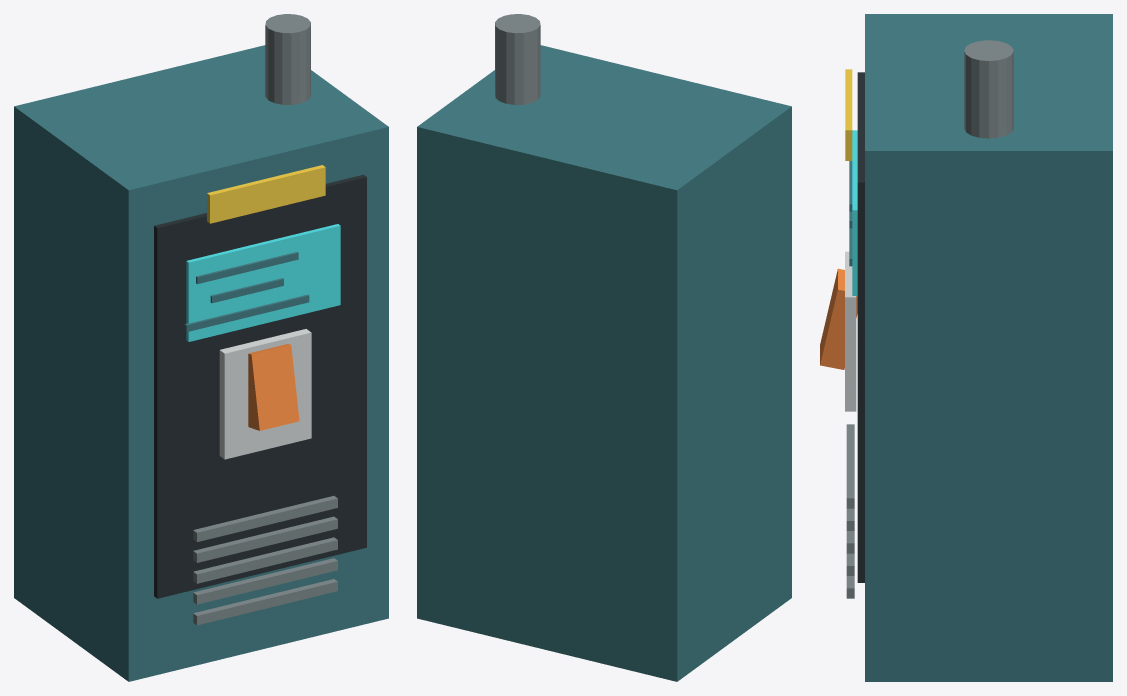
The model's file is power_unit.glb.
3 renders of one model, left to right at view 1: azimuth 30°, elevation 25°; view 2: azimuth 150°, elevation 25°; view 3: azimuth 270°, elevation 25°, orthographic. The views are drawn at different scales.
Visible parts, largest first — view 1: Power cabinet, Power front inset, Power status window, Main breaker surround, Top conduit, Main breaker, Hazard label, Power intake vent 4, Power intake vent 1, Power intake vent 3, Power intake vent 5, Power intake vent 2 (+3 smaller); view 2: Power cabinet, Top conduit; view 3: Power cabinet, Top conduit, Power front inset, Main breaker, Main breaker surround, Power status window, Power intake vent 1, Hazard label.
Part boxes in pixels (bbox=[...]): Power cabinet: bbox=[14, 45, 388, 681]; Power front inset: bbox=[154, 174, 366, 598]; Power status window: bbox=[186, 224, 340, 341]; Main breaker surround: bbox=[219, 329, 311, 459]; Top conduit: bbox=[265, 14, 310, 104]; Main breaker: bbox=[248, 344, 299, 430]; Hazard label: bbox=[207, 165, 325, 223]; Power intake vent 4: bbox=[193, 558, 337, 604]; Power intake vent 1: bbox=[193, 496, 337, 541]; Power intake vent 3: bbox=[193, 537, 337, 583]; Power intake vent 5: bbox=[193, 579, 337, 625]; Power intake vent 2: bbox=[193, 516, 337, 562]; Power cabinet: bbox=[417, 45, 791, 681]; Top conduit: bbox=[495, 14, 540, 104]; Power cabinet: bbox=[865, 14, 1112, 681]; Top conduit: bbox=[964, 40, 1013, 138]; Power front inset: bbox=[857, 72, 864, 582]; Main breaker: bbox=[820, 268, 857, 369]; Main breaker surround: bbox=[845, 251, 856, 411]; Power status window: bbox=[852, 130, 857, 295]; Power intake vent 1: bbox=[846, 424, 854, 508]; Hazard label: bbox=[845, 69, 852, 160].
Bounding box in the file's own units: 0.72 × 1.49 × 0.6497.
